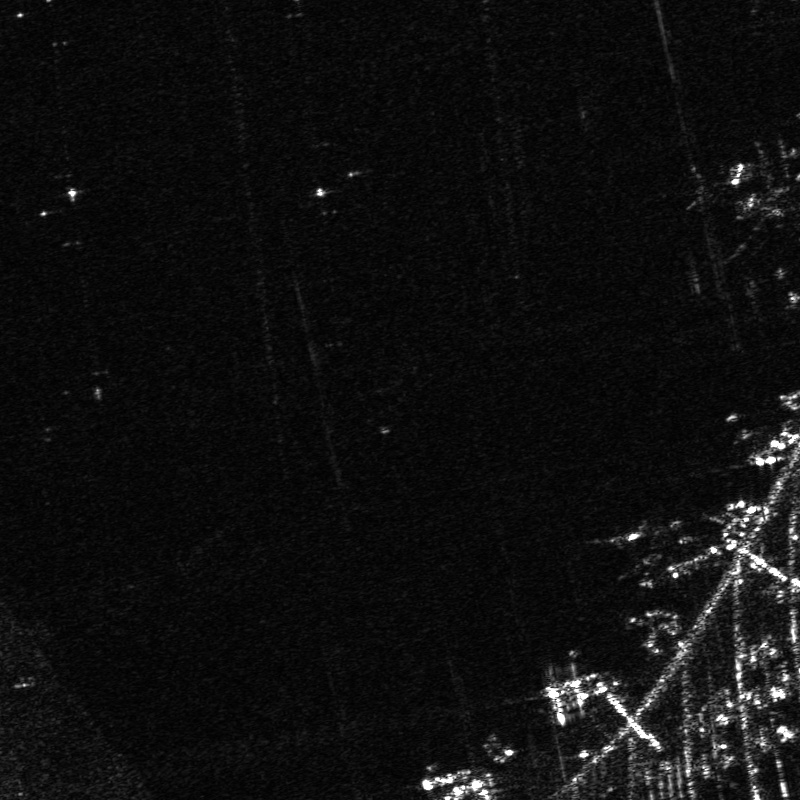A220: (607, 515, 659, 583)
